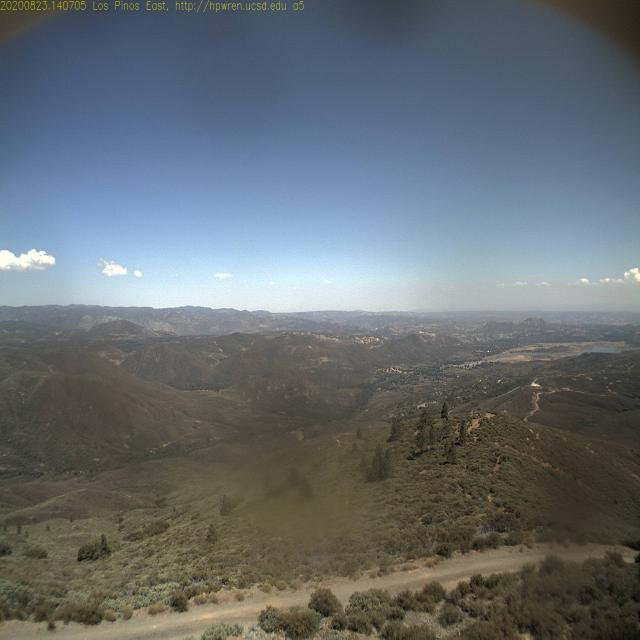smoke: (369, 294, 399, 316)
